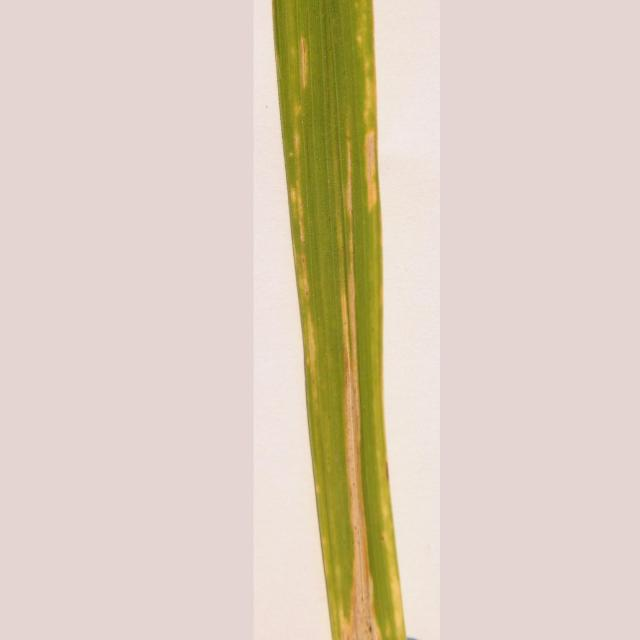Bacterial leaf blight: (333, 258, 387, 640), (296, 250, 324, 412), (288, 107, 315, 235), (364, 130, 386, 262), (356, 3, 376, 129), (292, 30, 328, 96)
